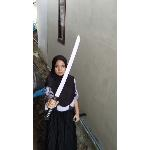Pedang: (42, 34, 82, 118)
